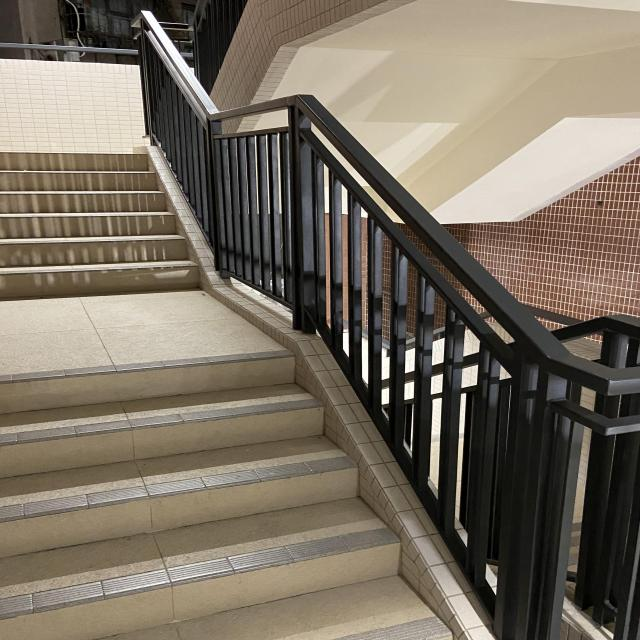Stairs: (0, 338, 494, 640), (0, 129, 220, 305)
